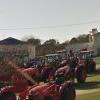Tractor: (7, 47, 86, 100)
